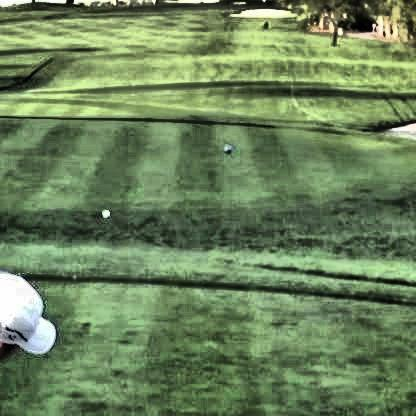golfball: (98, 207, 106, 217)
